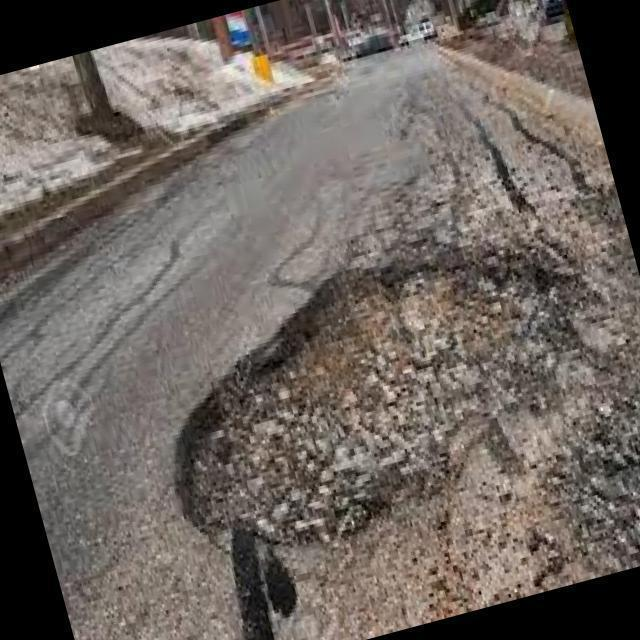pothole: (119, 208, 614, 528)
